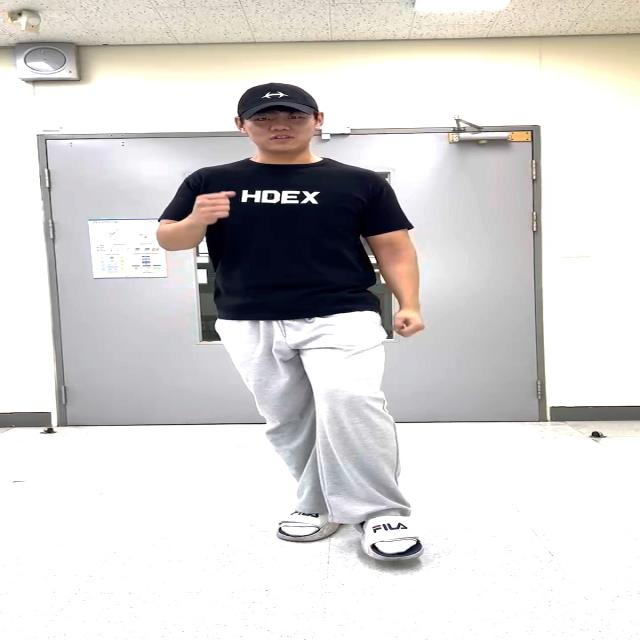leg: (308, 324, 420, 566)
